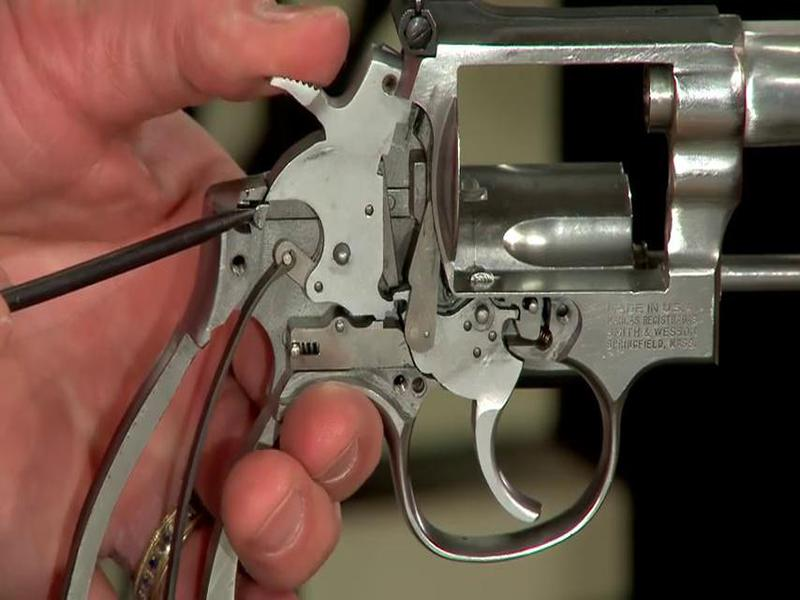Revolver: (151, 1, 799, 514)
